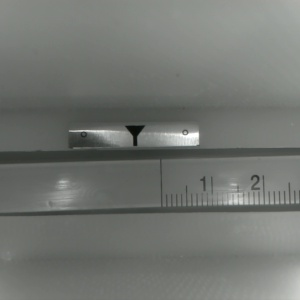1: (199, 176, 205, 192)
2: (250, 175, 260, 190)
finger: (124, 126, 144, 144)
